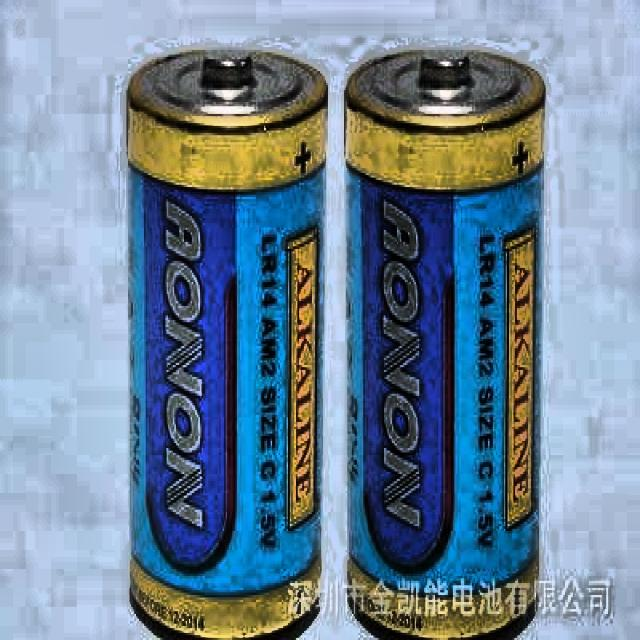Non-Valuable Waste - Batteries: (128, 50, 328, 636), (345, 50, 545, 636)
